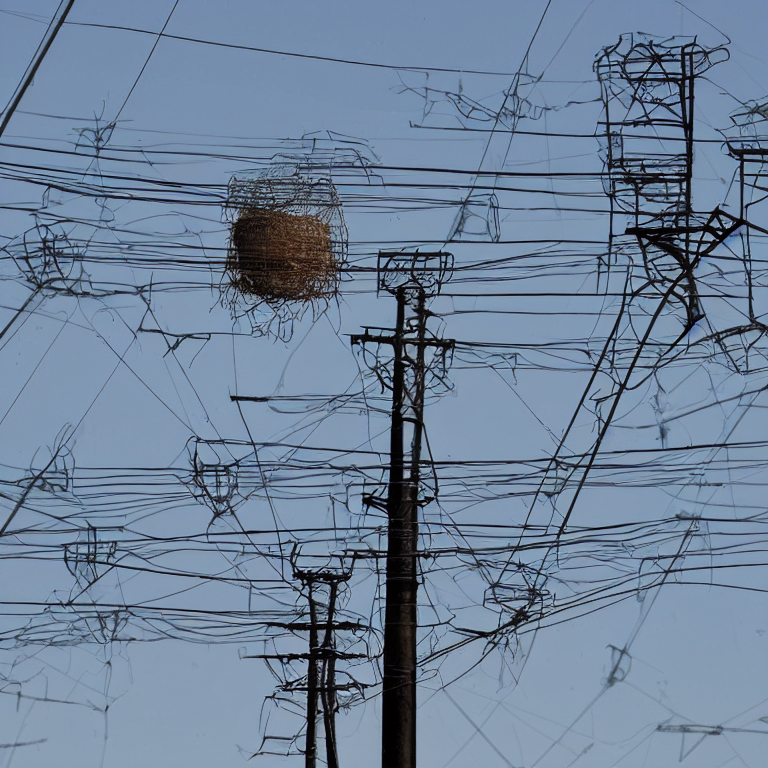nest: (228, 206, 343, 299)
